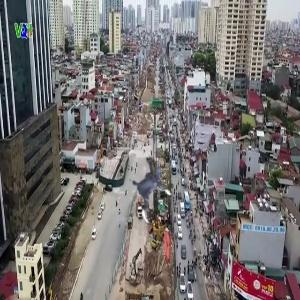drone: (121, 162, 183, 224)
